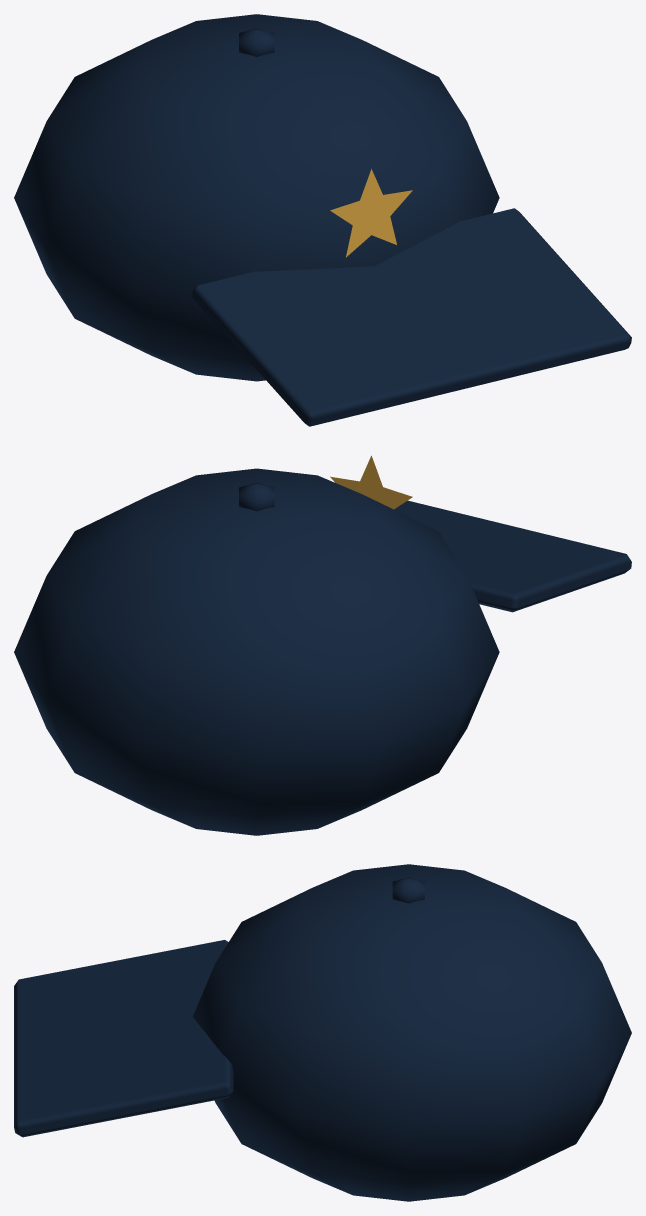
File: CM_Accessory_Cap_Cashier.fbx
The picture shows the model from 3 angles, top to bottom: view 1: azimuth 30°, elevation 25°; view 2: azimuth 150°, elevation 25°; view 3: azimuth 270°, elevation 25°; orthographic projection. The views are drawn at different scales.
Parts seen in each view (by area): view 1: Handle; view 2: Handle; view 3: Handle.
Boxes of the visible parts, box(x1,y1,x2,y2) form: Handle: box(14, 14, 631, 426); Handle: box(14, 455, 631, 835); Handle: box(14, 864, 631, 1201).
Bounding box in the file's own units: 1.44 × 1.99 × 1.05.
1 material, 1 textured.
